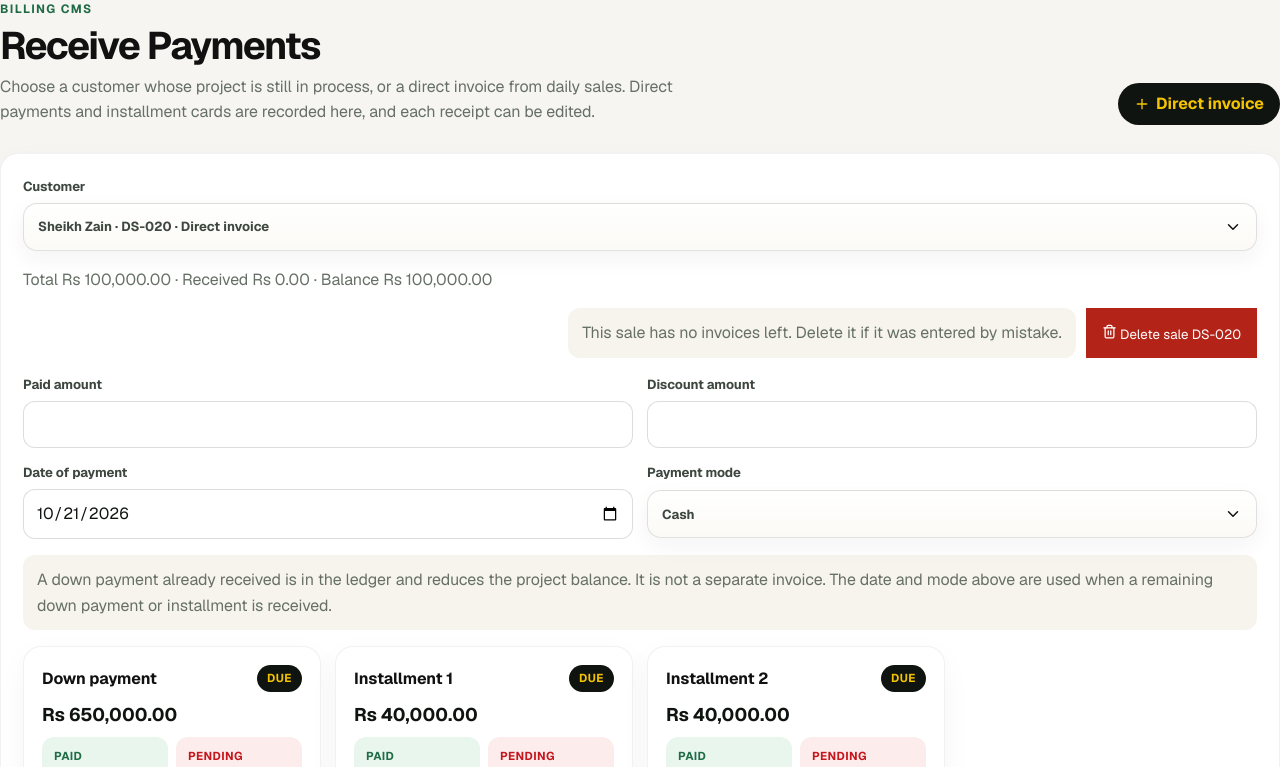
it: a daily sale with no payments can be deleted from receive payments
Step 1. Click the button "Delete sale DS-020" → (1171, 333), box x1=1086 y1=308 x2=1257 y2=358
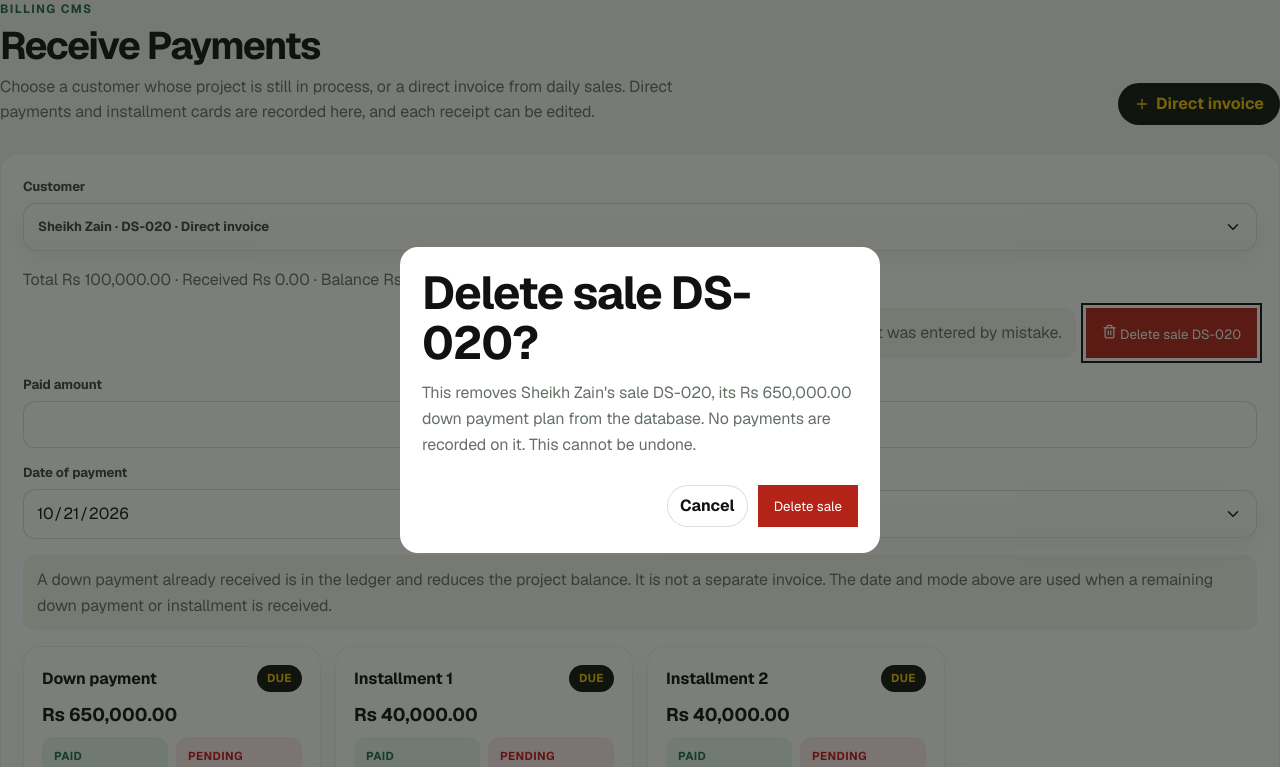
Now the dialog shows "Rs 650,000.00 down payment plan", box x1=422 y1=382 x2=852 y2=429
Step 2. Click the button "Delete sale" → (808, 506), box x1=758 y1=485 x2=858 y2=527
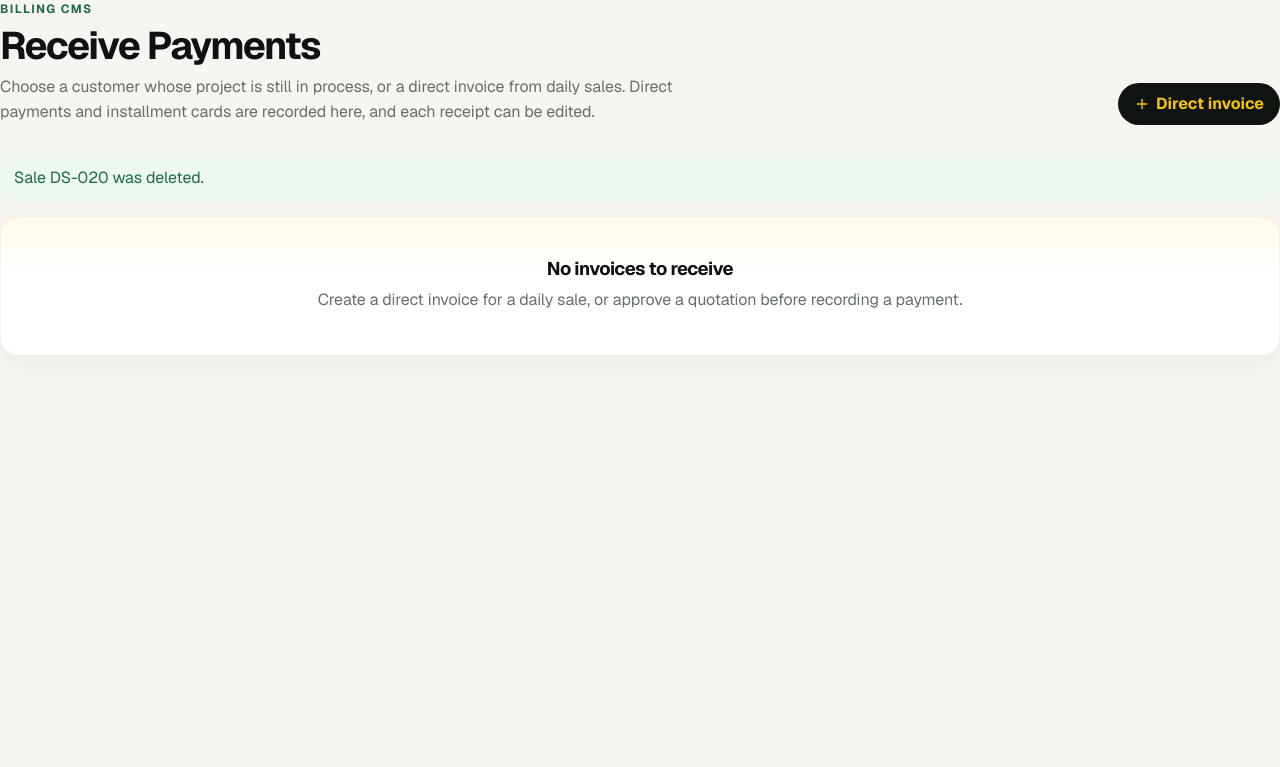
Now the text "Sale DS-020 was deleted." is shown, box x1=0 y1=153 x2=1279 y2=202
